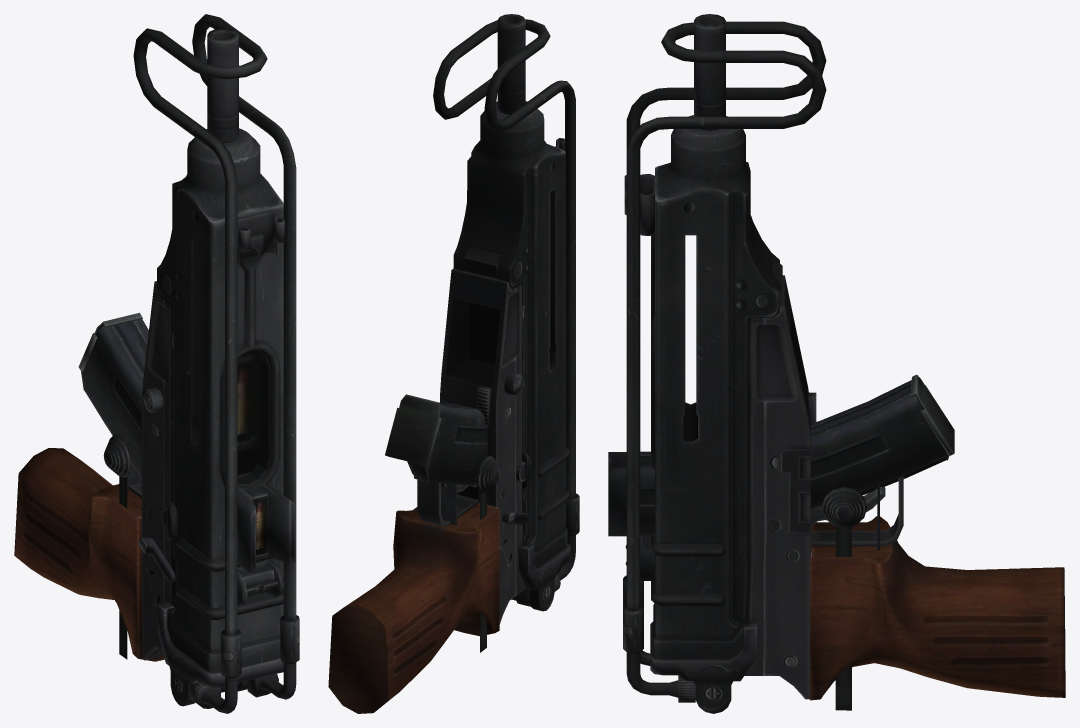
Rendered from Scorpion_Vz61_7th_Anniversary.obj.
The picture shows the model from 3 angles, left to right: view 1: azimuth 30°, elevation 25°; view 2: azimuth 150°, elevation 25°; view 3: azimuth 270°, elevation 25°; orthographic projection. The views are drawn at different scales.
Visible parts, largest first — view 1: Scorpion_Vz61, Model_Magazine, Model_Handle; view 2: Scorpion_Vz61, Model_Magazine, Model_Handle, Model_Handle1; view 3: Scorpion_Vz61, Model_Magazine, Model_Handle.
Part boxes in pixels (x1,y1,x2,y2): Scorpion_Vz61: (14,14,299,713); Model_Magazine: (78,312,295,573); Model_Handle: (103,434,130,659); Scorpion_Vz61: (328,14,579,713); Model_Magazine: (385,394,487,485); Model_Handle: (407,455,500,652); Model_Handle1: (441,484,456,525); Scorpion_Vz61: (623,14,1065,713); Model_Magazine: (608,374,954,536); Model_Handle: (821,486,867,710).
Size of the model in its own units: 0.0416 by 0.2708 by 0.1665.
1 material, 1 textured.
